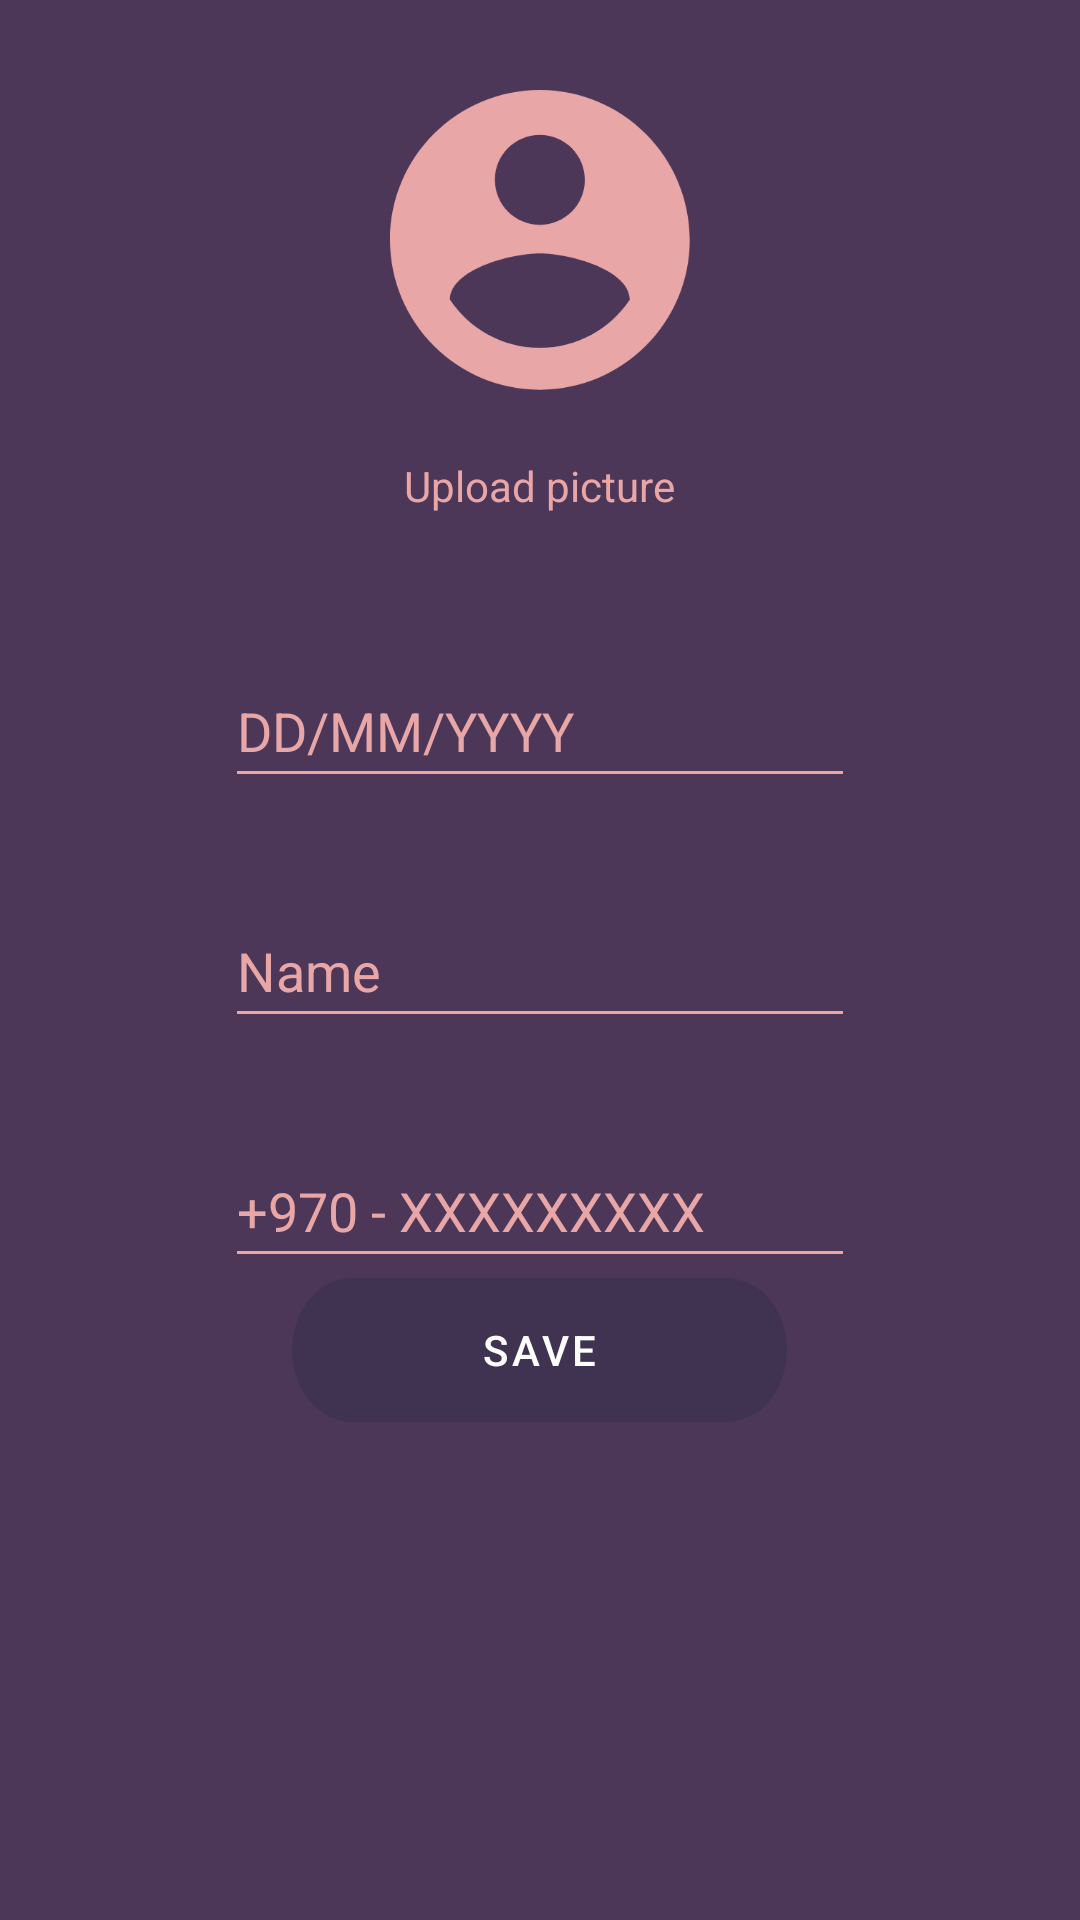

Screen size 1080w x 1920h. Icon name, then its box in pixels as (x1, y1, x2, y2):
account circle: (390, 90, 690, 390)
